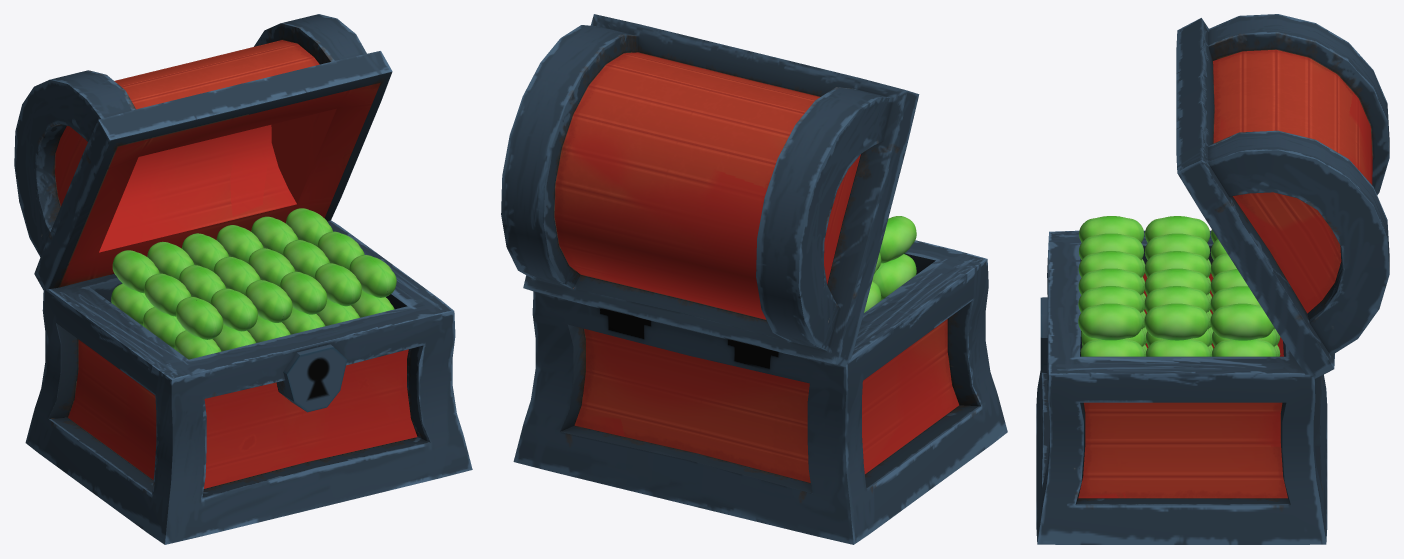
The model's file is 066_BPD (Open snax box full of snax).fbx.
3 renders of one model, left to right at view 1: azimuth 30°, elevation 25°; view 2: azimuth 150°, elevation 25°; view 3: azimuth 270°, elevation 25°, orthographic. The views are drawn at different scales.
Parts seen in each view (by area): view 1: chest, chest.001, snax; view 2: chest.001, chest, snax; view 3: chest, chest.001, snax.
Boxes of the visible parts, x1,y1,x2,y2 form: chest: (25,220,472,544); chest.001: (14,14,392,289); snax: (111,208,396,359); chest.001: (501,14,919,367); chest: (513,240,1007,544); snax: (864,216,916,312); chest: (1036,230,1327,544); chest.001: (1176,14,1389,378); snax: (1078,216,1280,356).
Bounding box in the file's own units: 25.71 × 29.47 × 24.53.
2 materials, 2 textured.
